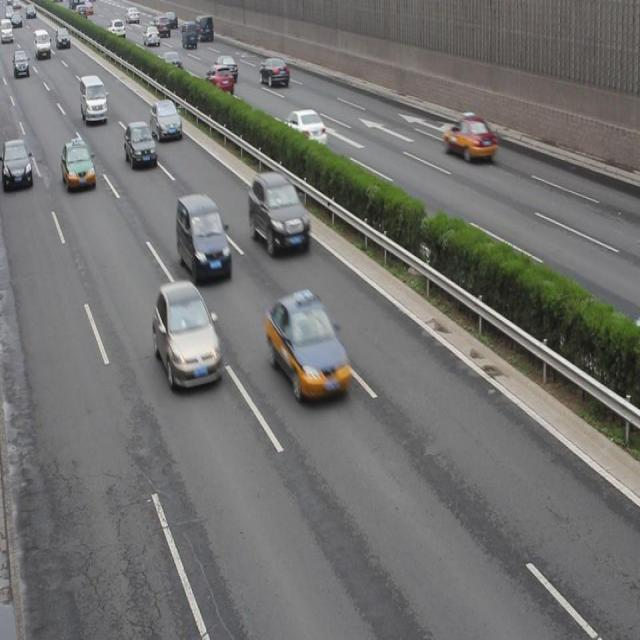car: (267, 293, 348, 403), (152, 280, 221, 388), (248, 172, 310, 253), (176, 192, 231, 280), (442, 113, 495, 164), (62, 138, 96, 190), (282, 108, 326, 146), (0, 140, 32, 190), (124, 121, 157, 168), (150, 101, 182, 140), (204, 65, 232, 97), (259, 59, 289, 88), (214, 54, 238, 82), (160, 50, 183, 74), (13, 50, 30, 77), (181, 22, 197, 48), (152, 16, 170, 39), (142, 28, 161, 48)
truck: (79, 74, 108, 124), (196, 16, 213, 44)
